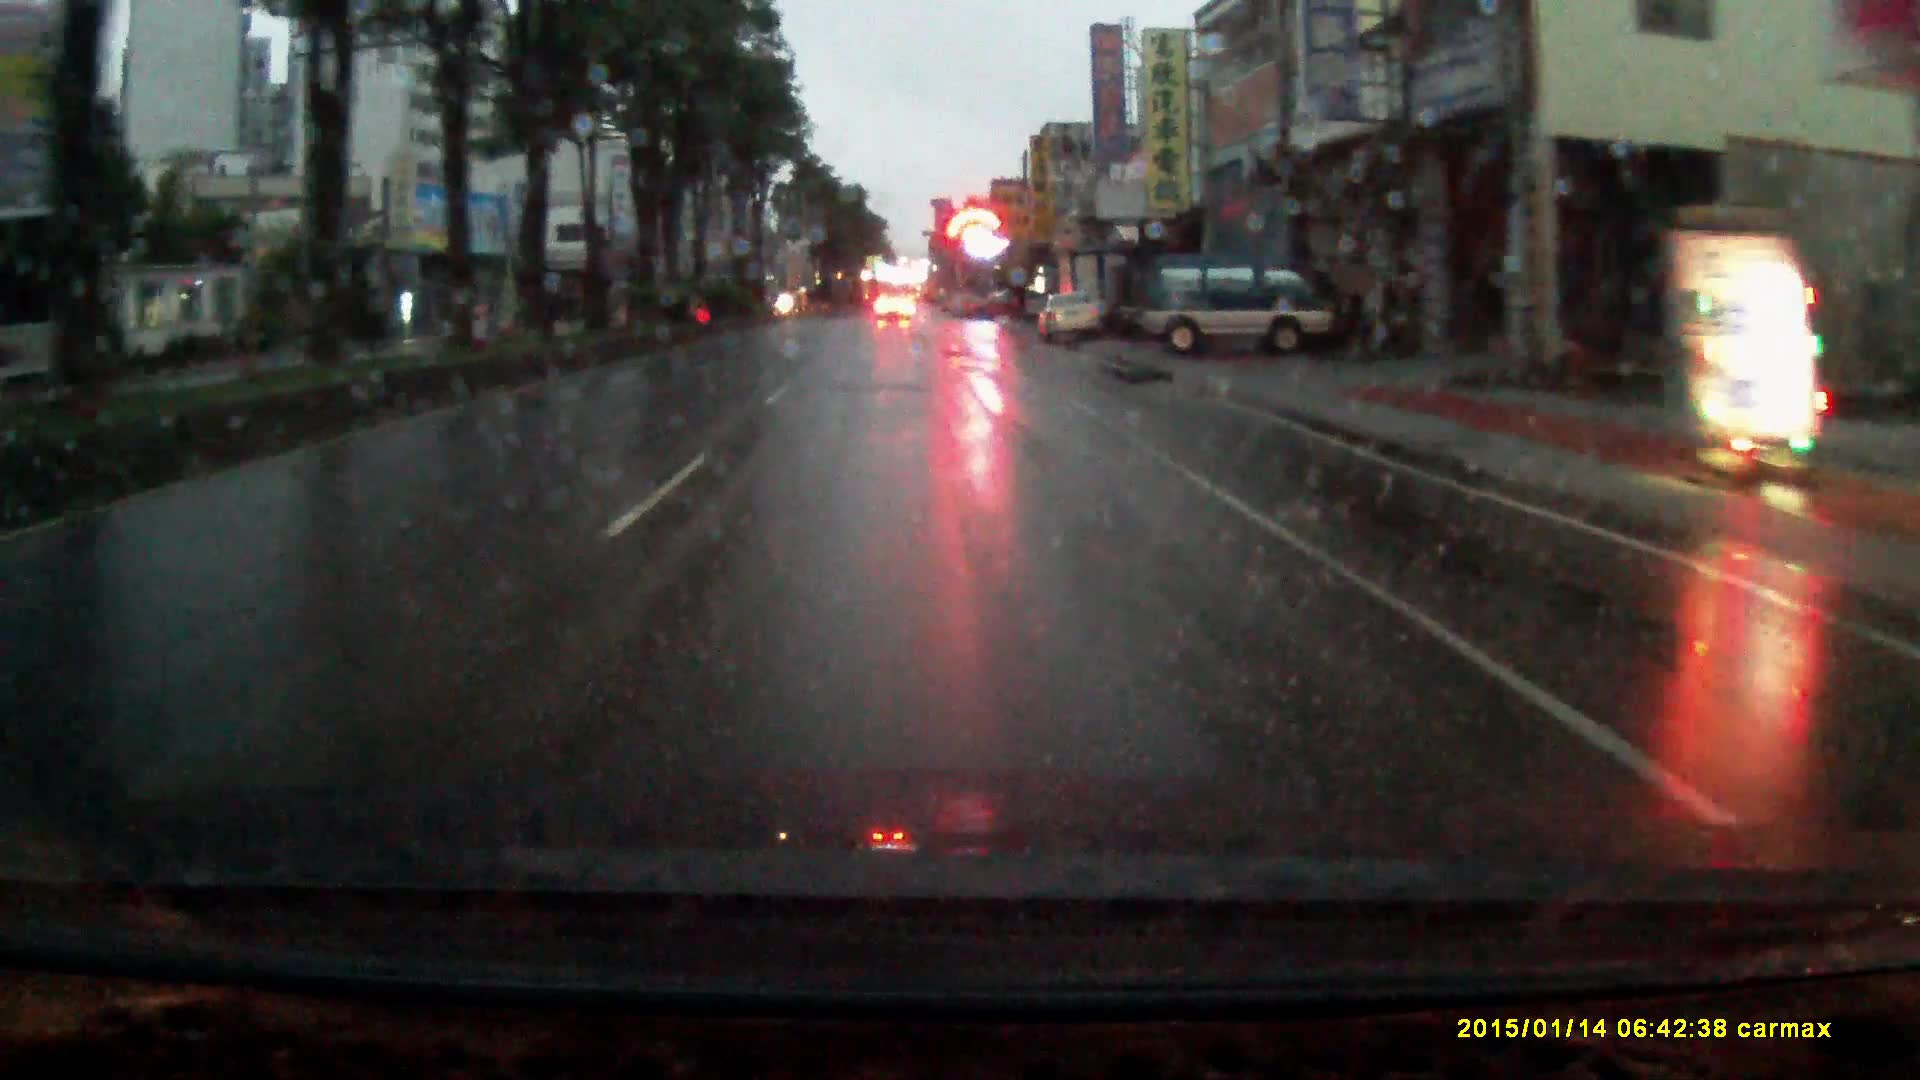vehicle: (1138, 255, 1356, 364), (1055, 249, 1131, 342), (1036, 290, 1102, 347), (876, 297, 914, 327)
